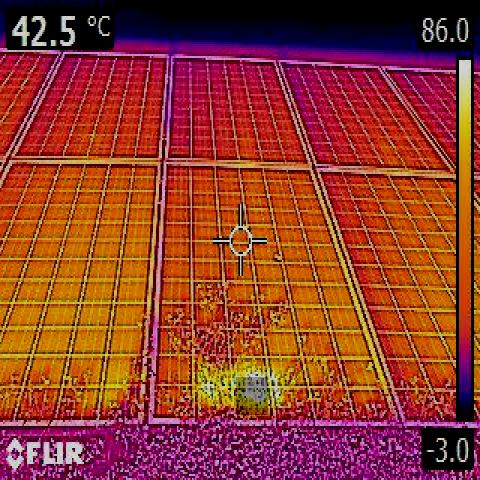fault: (236, 377, 268, 415)
